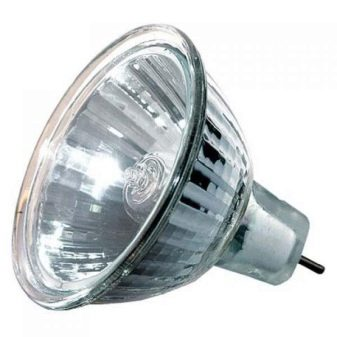Light_bulb: (7, 15, 337, 322)
